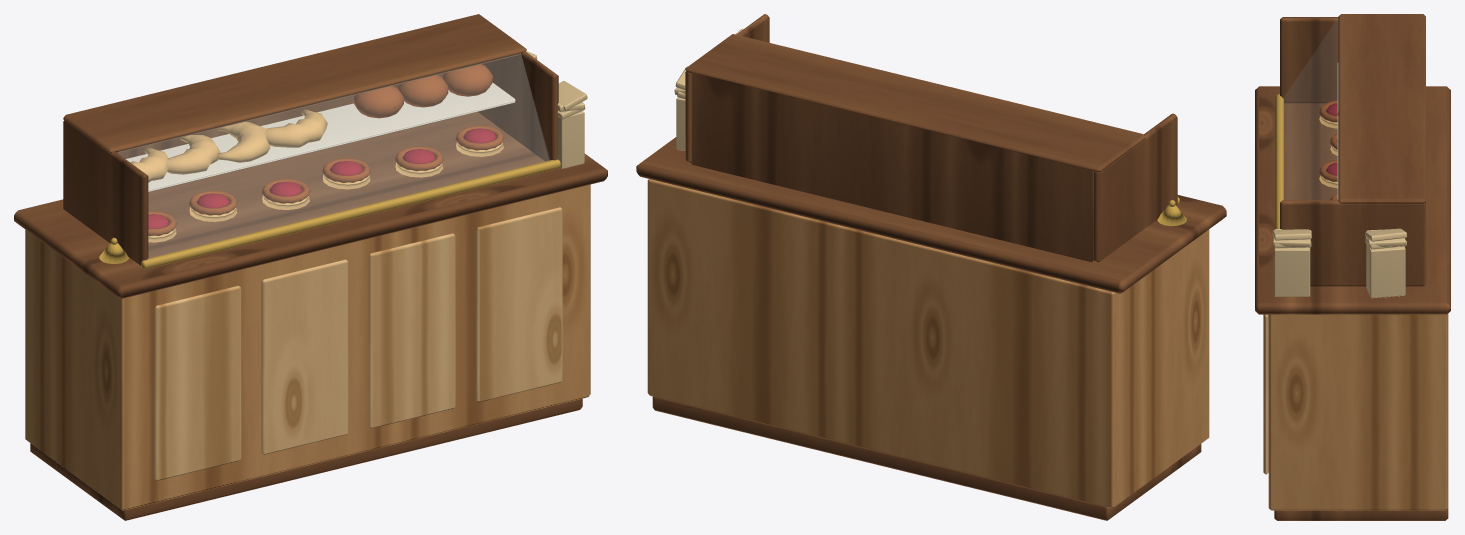
File: bakery_counter.glb
The picture shows the model from 3 angles, left to right: view 1: azimuth 30°, elevation 25°; view 2: azimuth 150°, elevation 25°; view 3: azimuth 270°, elevation 25°; orthographic projection. The views are drawn at different scales.
Visible parts, largest first — view 1: model; view 2: model; view 3: model.
Part boxes in pixels (left/top/right/bottom): model: left=14, top=14, right=607, bottom=520; model: left=636, top=14, right=1226, bottom=520; model: left=1255, top=14, right=1450, bottom=520.
Size of the model in its own units: 1.88 by 1.25 by 0.71.
Materials: 10 (3 with a texture image).
